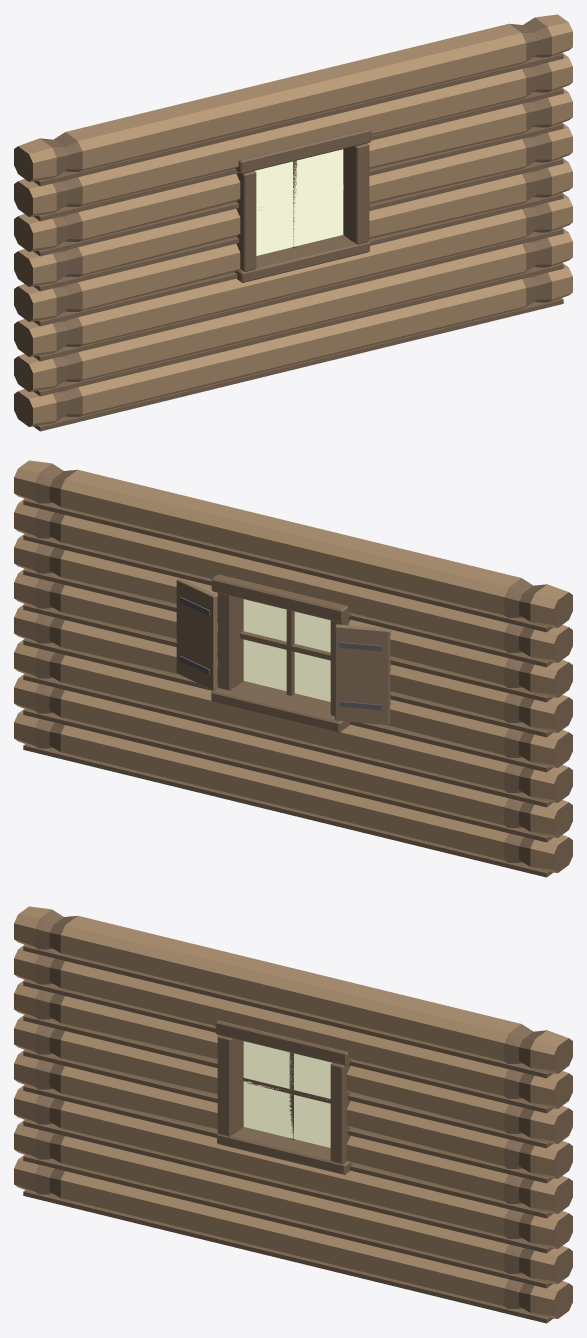
The model's file is laft_wall_window.glb.
The picture shows the model from 3 angles, top to bottom: view 1: azimuth 30°, elevation 25°; view 2: azimuth 150°, elevation 25°; view 3: azimuth 330°, elevation 25°; orthographic projection.
Parts seen in each view (by area): view 1: laft_wall_window; view 2: laft_wall_window; view 3: laft_wall_window.
Part boxes in pixels (x1,y1,x2,y2): laft_wall_window: (14, 14, 572, 431); laft_wall_window: (14, 460, 572, 877); laft_wall_window: (14, 906, 572, 1323).
Bounding box in the file's own units: 4.6 × 2.27 × 0.4849.
